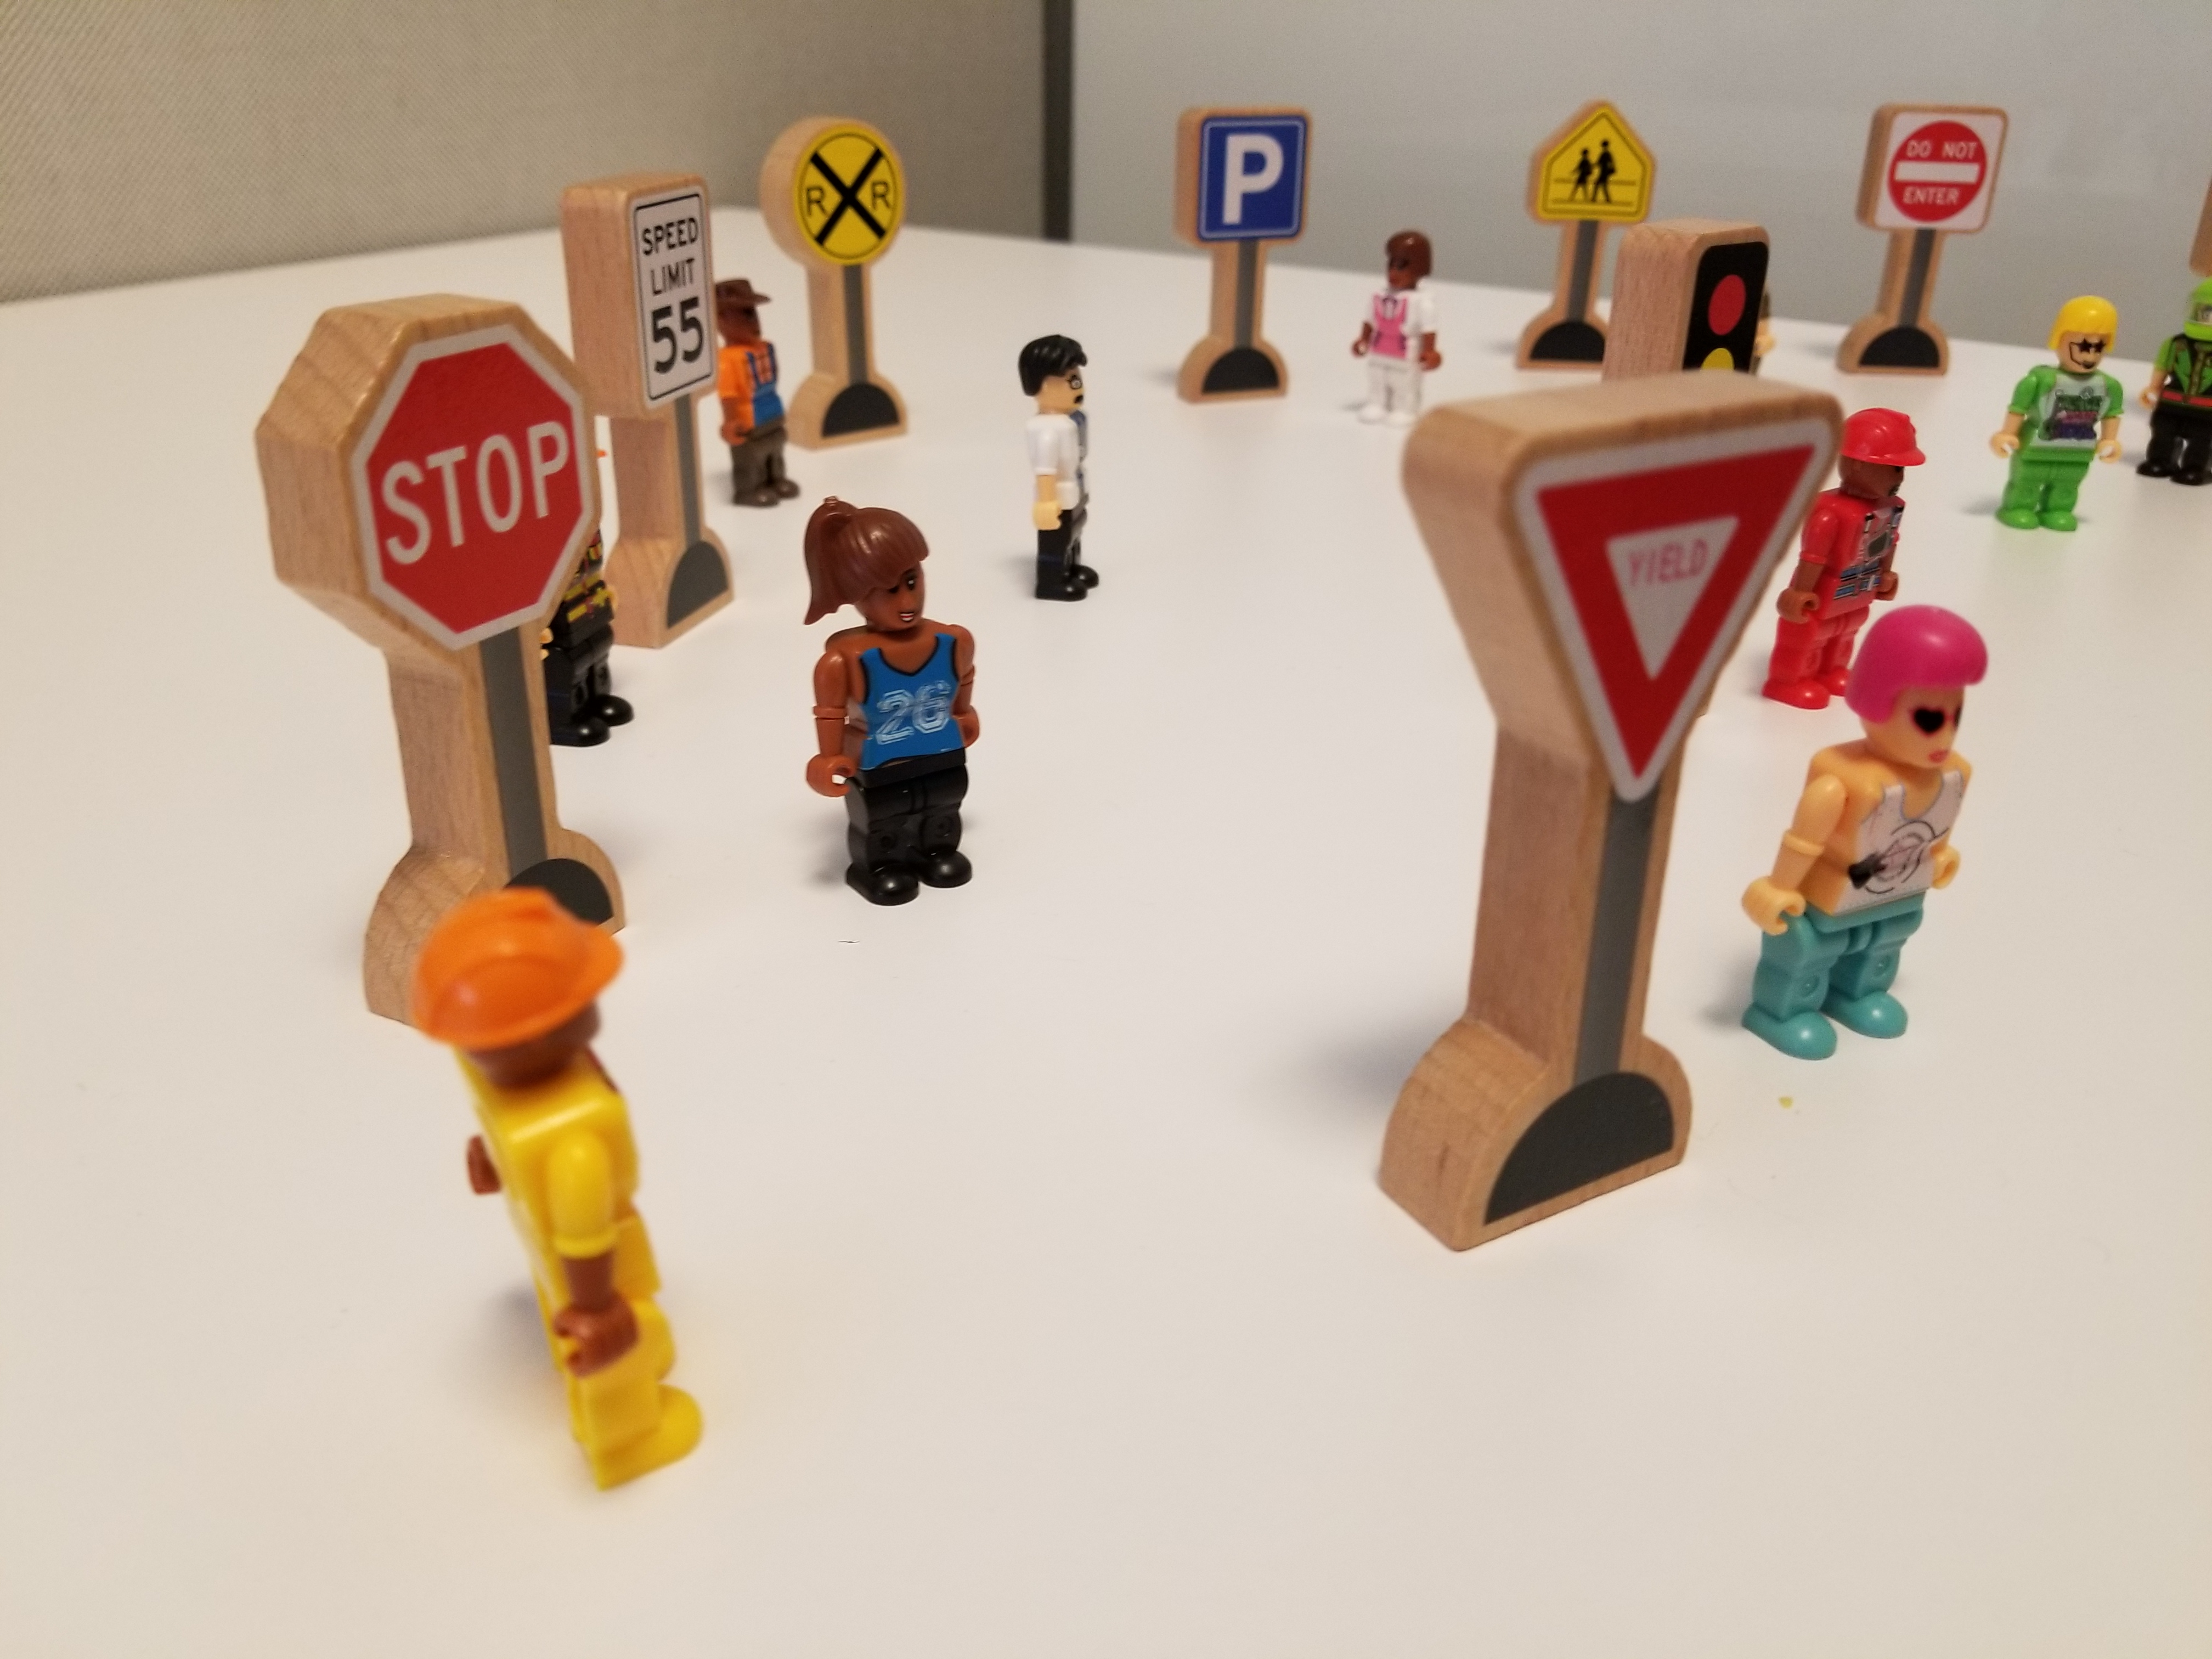Do not enter: (1851, 82, 2007, 370)
Parking: (1158, 69, 1320, 455)
Railroad Crossing: (765, 102, 916, 330), (1535, 76, 1662, 267)
Speed limit 55: (563, 166, 736, 563)
Stop: (234, 269, 620, 690)
Yield: (1410, 376, 1840, 855)
person: (383, 879, 741, 1493), (771, 495, 1026, 916), (1781, 591, 1983, 1120), (1983, 275, 2134, 563), (997, 308, 1131, 607), (710, 253, 815, 510), (1838, 385, 1923, 670), (1338, 214, 1445, 427)
